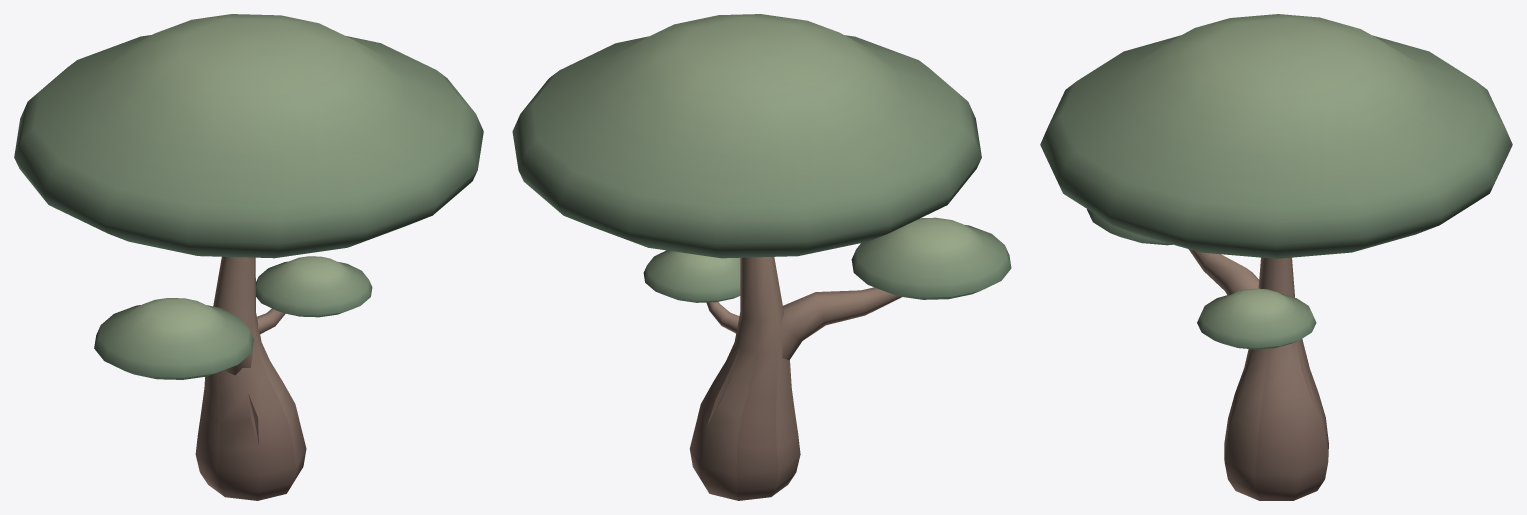
File: Tree_3_B.glb
3 renders of one model, left to right at view 1: azimuth 30°, elevation 25°; view 2: azimuth 150°, elevation 25°; view 3: azimuth 270°, elevation 25°, orthographic.
Visible parts, largest first — view 1: Tree_3_B_Color1; view 2: Tree_3_B_Color1; view 3: Tree_3_B_Color1.
Boxes of the visible parts, x1=… form: Tree_3_B_Color1: x1=14, y1=14, x2=483, y2=500; Tree_3_B_Color1: x1=512, y1=14, x2=1011, y2=500; Tree_3_B_Color1: x1=1040, y1=14, x2=1512, y2=500.
Size of the model in its own units: 4.13 by 4.35 by 4.13.
Materials: 1 (1 with a texture image).
